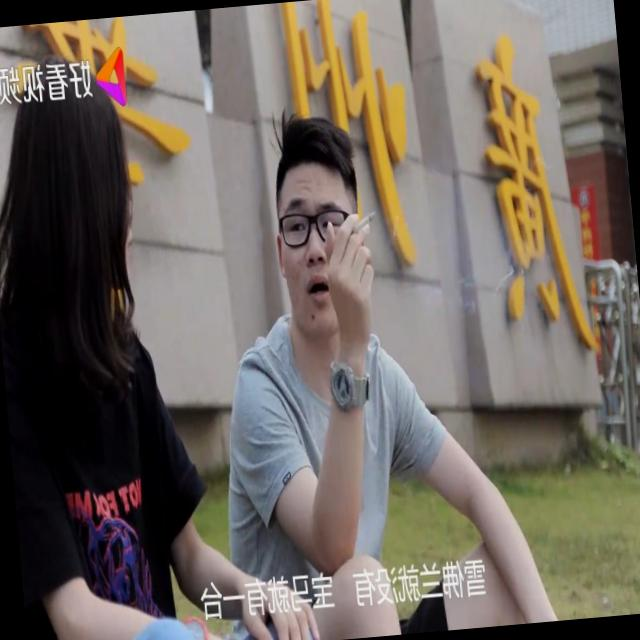cigarette: (344, 199, 380, 244)
